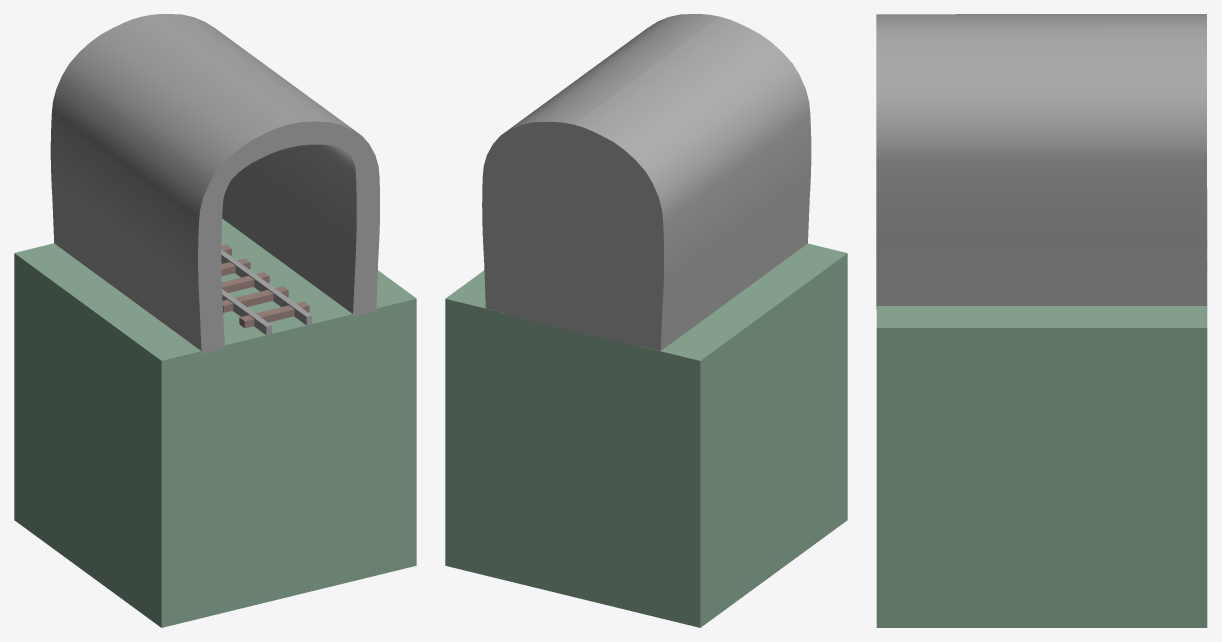
File: tunnel verlengstuk.fbx
3 renders of one model, left to right at view 1: azimuth 30°, elevation 25°; view 2: azimuth 150°, elevation 25°; view 3: azimuth 270°, elevation 25°, orthographic. The views are drawn at different scales.
Visible parts, largest first — view 1: polySurface3; view 2: polySurface3; view 3: polySurface3.
Boxes of the visible parts, left/top/right/bottom form: polySurface3: left=14, top=14, right=416, bottom=627; polySurface3: left=445, top=14, right=847, bottom=627; polySurface3: left=876, top=14, right=1207, bottom=627.
Size of the model in its own units: 1 by 1.77 by 1.
